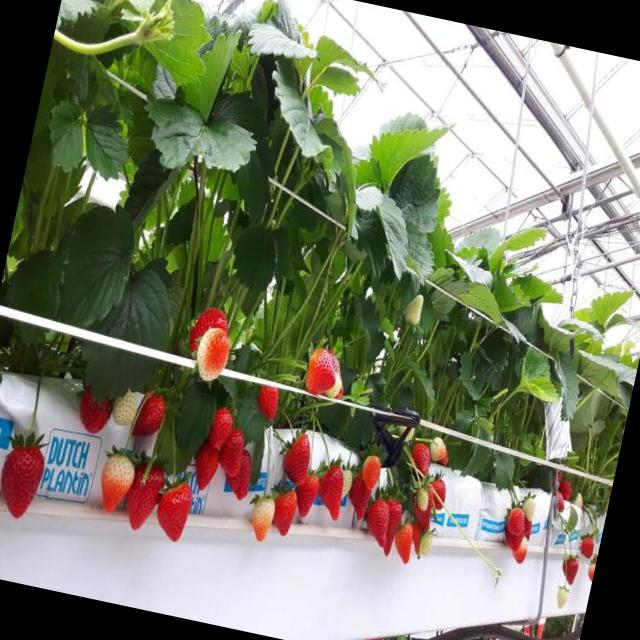ripe: (0, 445, 45, 529), (122, 465, 166, 535), (152, 486, 192, 548), (312, 466, 348, 523), (186, 306, 226, 357), (76, 384, 115, 436), (278, 430, 312, 486), (188, 443, 222, 497), (374, 496, 404, 556), (304, 350, 341, 398), (359, 500, 394, 550), (268, 487, 302, 538), (254, 376, 288, 426), (226, 451, 258, 504), (131, 396, 166, 444), (205, 406, 238, 456), (218, 427, 248, 482), (343, 472, 375, 522), (389, 520, 416, 568), (406, 438, 434, 476), (295, 478, 320, 520), (498, 517, 526, 551), (426, 478, 451, 516), (504, 507, 527, 540), (560, 556, 580, 588), (578, 530, 598, 560), (561, 478, 574, 504), (551, 472, 562, 491)
